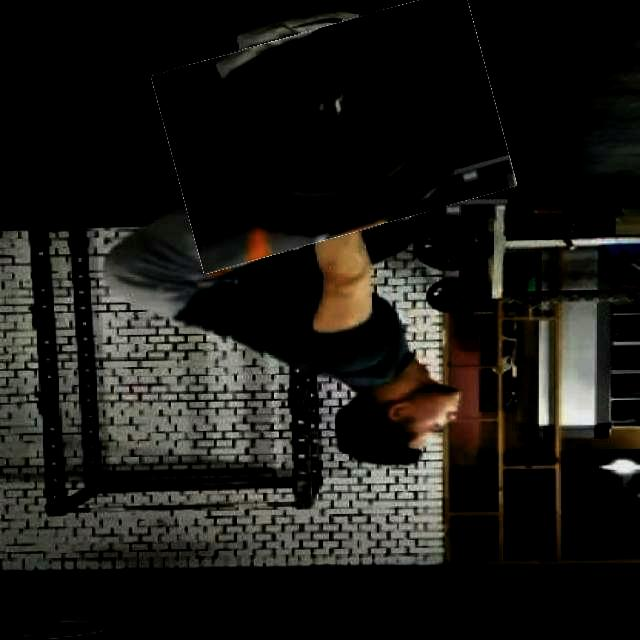barbell: (162, 8, 507, 257)
